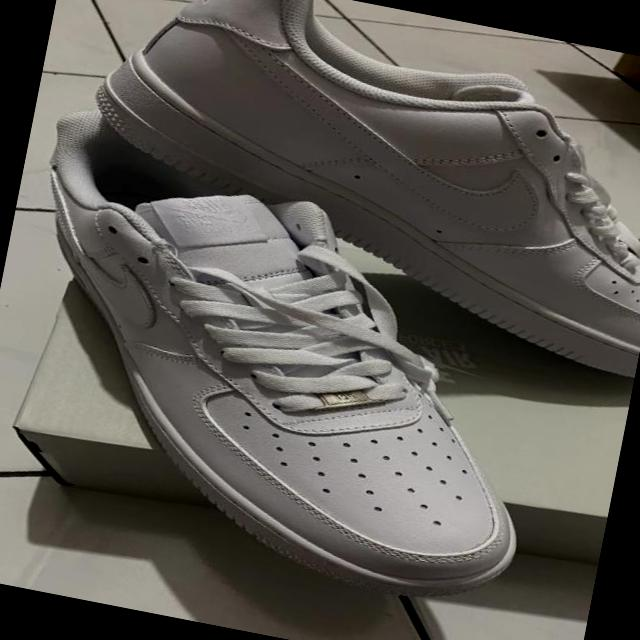nike_original_airforce: (0, 103, 581, 617), (59, 0, 640, 379)
